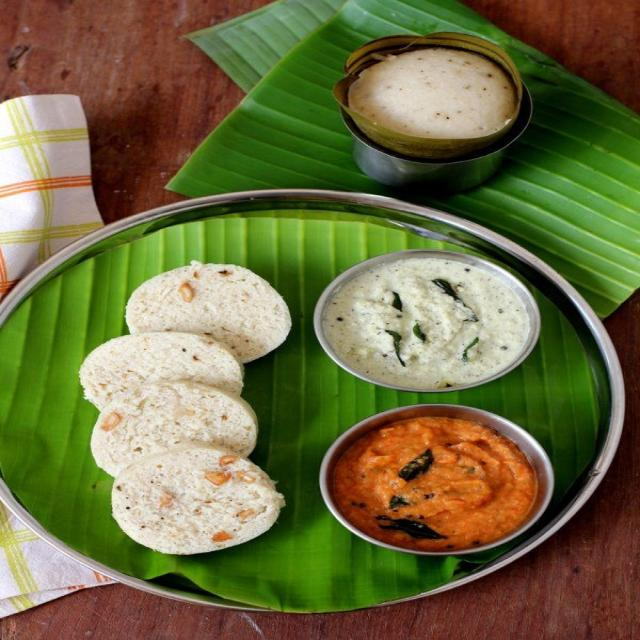kaara chutney: (323, 410, 560, 557)
